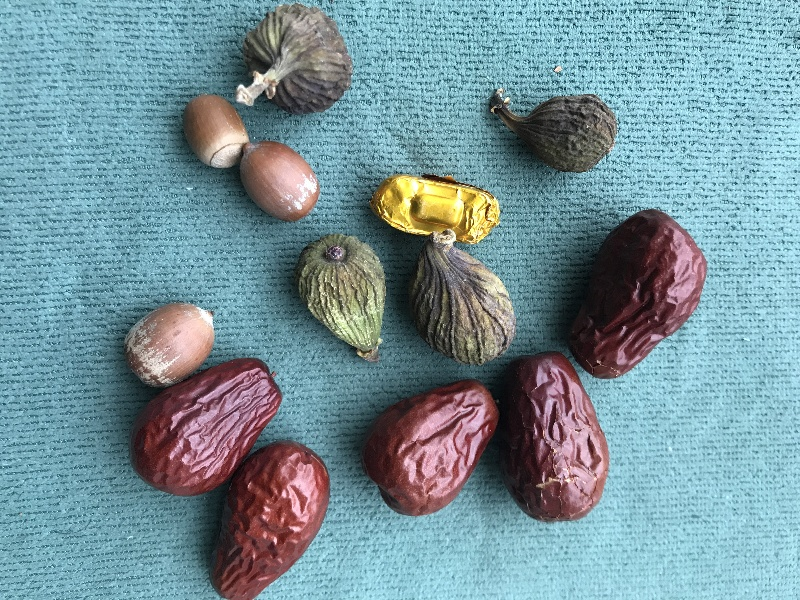date: (564, 208, 708, 382), (129, 358, 287, 497), (209, 440, 332, 600), (499, 352, 609, 526), (363, 379, 499, 518)
fig: (405, 230, 519, 364), (232, 3, 354, 118), (294, 234, 388, 364), (484, 88, 623, 175)
hazelnut: (123, 301, 218, 388), (237, 137, 323, 223), (185, 92, 249, 166)
